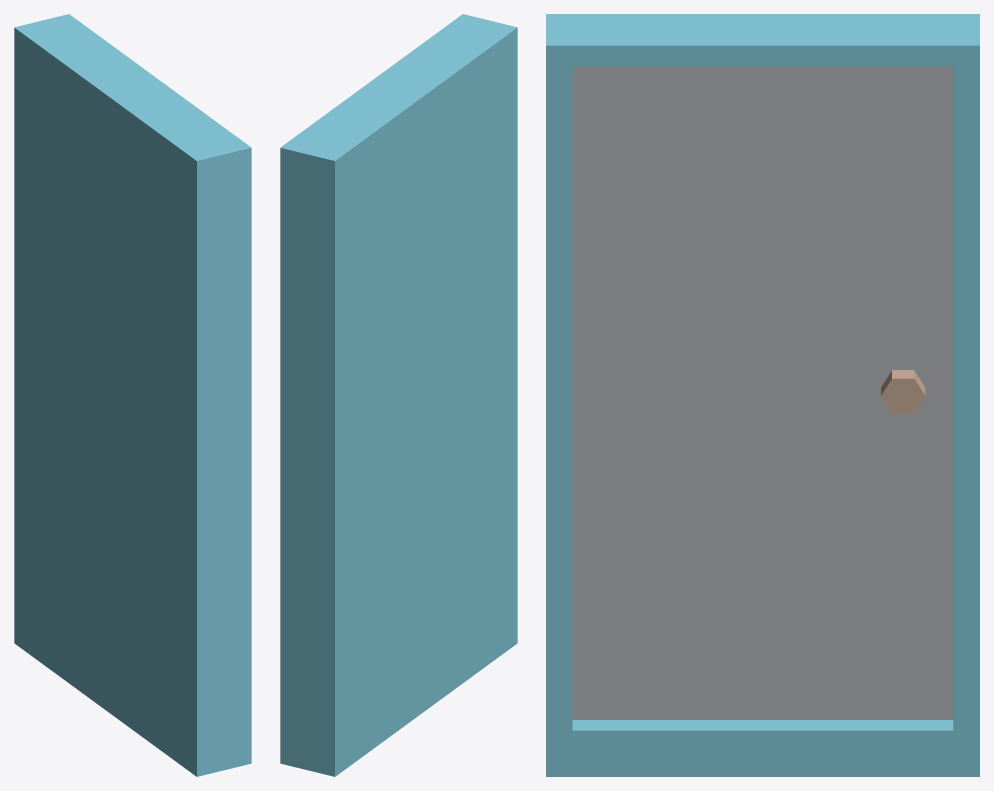
File: door2.dae
3 views of the same model, side by side, from view 1: azimuth 30°, elevation 25°; view 2: azimuth 150°, elevation 25°; view 3: azimuth 270°, elevation 25° (orthographic). The views are drawn at different scales.
Visible parts, largest first — view 1: Cube_001; view 2: Cube_001; view 3: Cube_001.
Part boxes in pixels (bbox=[...]): Cube_001: bbox=[14, 14, 251, 776]; Cube_001: bbox=[280, 14, 517, 776]; Cube_001: bbox=[546, 14, 979, 776].
Size of the model in its own units: 0.745 by 4.29 by 7.99.
